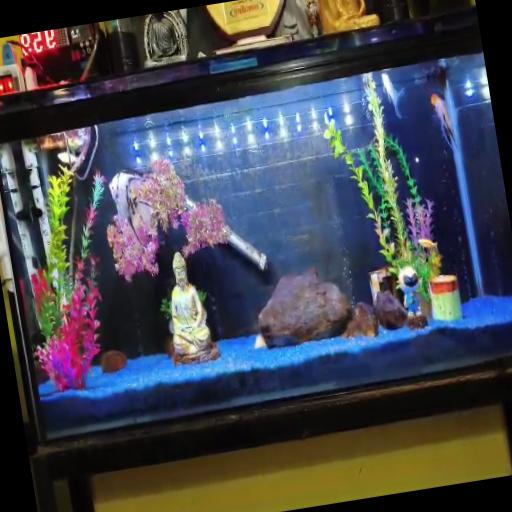Fish: (108, 173, 151, 245), (430, 95, 459, 154), (381, 73, 404, 118), (56, 152, 76, 167), (417, 239, 435, 250)
